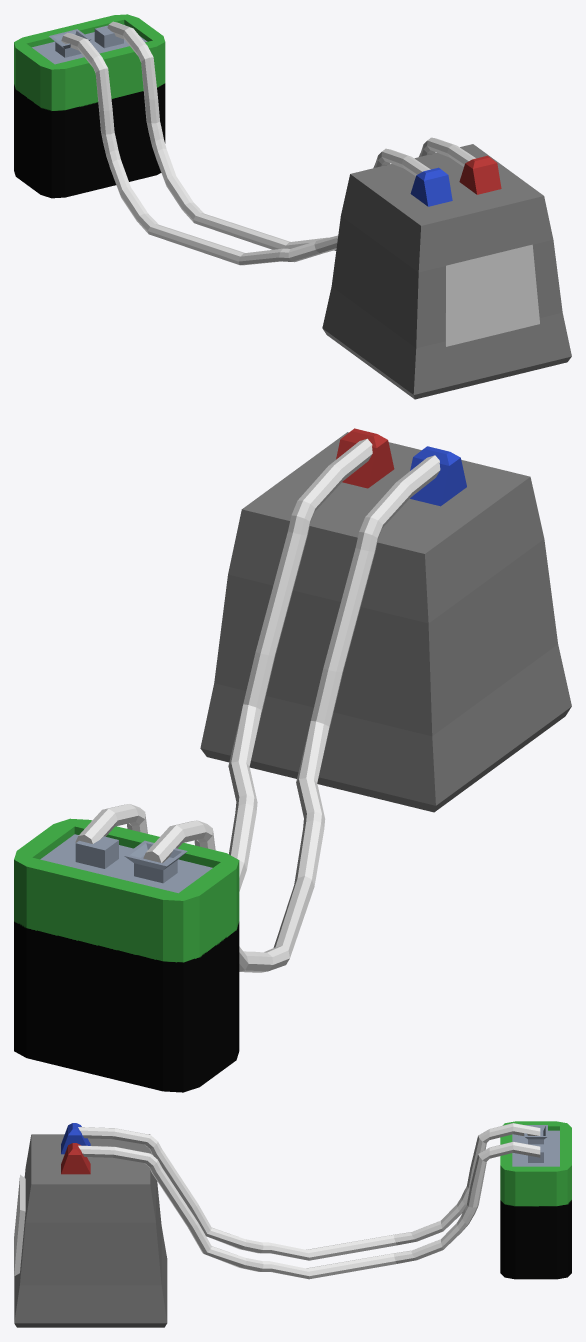
The picture shows the model from 3 angles, top to bottom: view 1: azimuth 30°, elevation 25°; view 2: azimuth 150°, elevation 25°; view 3: azimuth 270°, elevation 25°; orthographic projection. The views are drawn at different scales.
Visible parts, largest first — view 1: Cube.001, Battery, Cylinder, Cylinder.001; view 2: Cube.001, Battery, Cylinder, Cylinder.001; view 3: Cube.001, Battery, Cylinder.001, Cylinder.
Part boxes in pixels (box(x1,y1,x2,y2)): Cube.001: box(322, 144, 571, 399); Battery: box(14, 14, 165, 198); Cylinder: box(61, 32, 430, 265); Cylinder.001: box(107, 21, 475, 250); Cube.001: box(200, 428, 571, 812); Battery: box(14, 818, 239, 1092); Cylinder: box(143, 455, 440, 972); Cylinder.001: box(75, 438, 372, 891); Cube.001: box(14, 1123, 167, 1327); Battery: box(500, 1121, 571, 1279); Cylinder.001: box(78, 1141, 540, 1279); Cylinder: box(78, 1123, 540, 1260).
Bounding box in the file's own units: 378 × 297 × 939.
